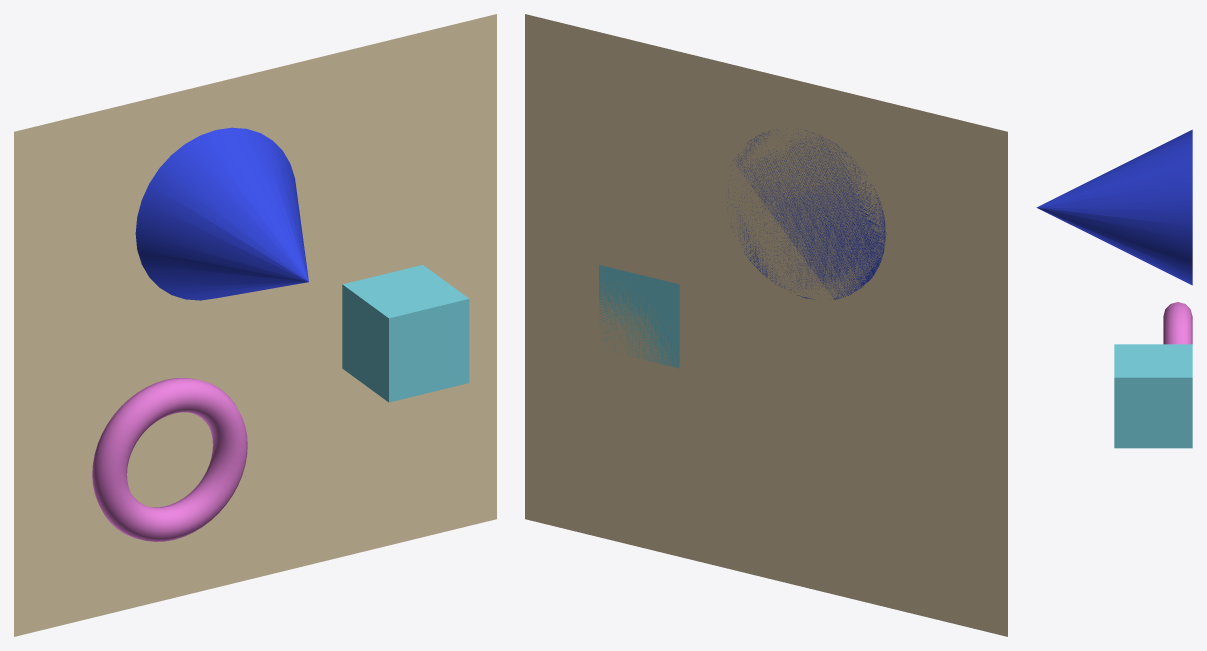
Rendered from hierarchy.gltf.
3 renders of one model, left to right at view 1: azimuth 30°, elevation 25°; view 2: azimuth 150°, elevation 25°; view 3: azimuth 270°, elevation 25°, orthographic. The views are drawn at different scales.
Visible parts, largest first — view 1: Plane, Cylinder, Cube, Torus; view 2: Plane, Cylinder, Cube; view 3: Cylinder, Cube, Torus.
Boxes of the visible parts, <box> form: Plane: <box>14,14,496,636</box>; Cylinder: <box>135,127,308,300</box>; Cube: <box>342,265,469,402</box>; Torus: <box>92,378,247,541</box>; Plane: <box>525,14,1007,636</box>; Cylinder: <box>727,130,886,299</box>; Cube: <box>599,265,679,368</box>; Cylinder: <box>1036,129,1192,285</box>; Cube: <box>1114,344,1192,448</box>; Torus: <box>1163,302,1192,344</box>.
Bounding box in the file's own units: 6 × 6 × 2.
